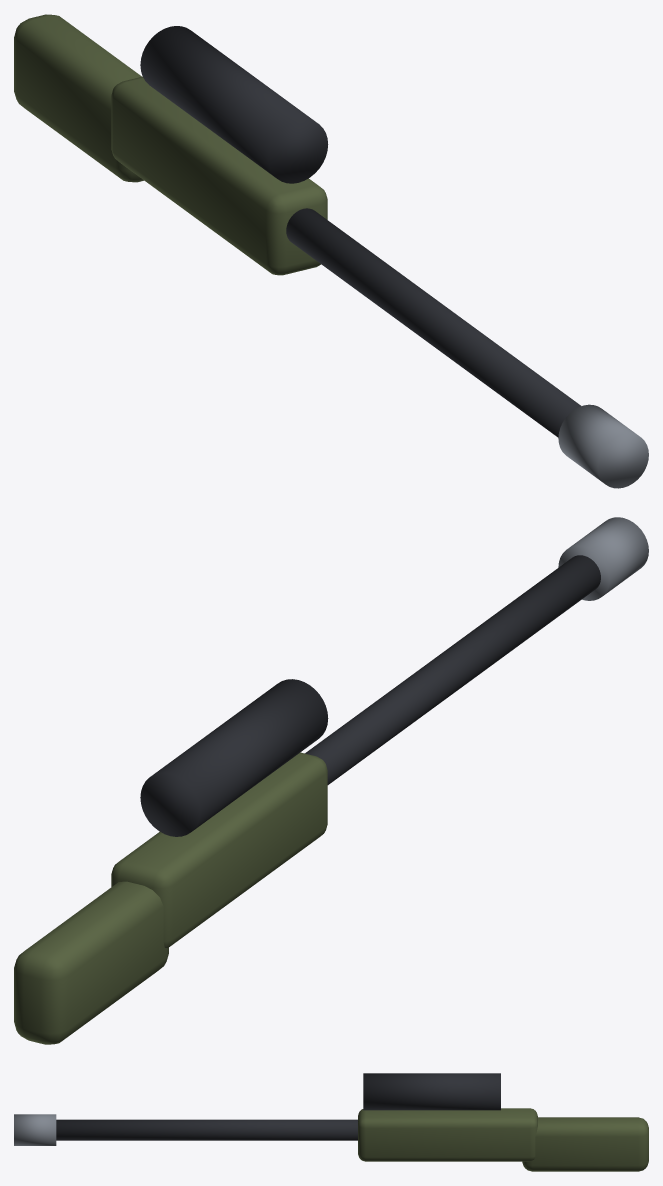
The model's file is w_sniper.glb.
The picture shows the model from 3 angles, top to bottom: view 1: azimuth 30°, elevation 25°; view 2: azimuth 150°, elevation 25°; view 3: azimuth 270°, elevation 25°; orthographic projection. The views are drawn at different scales.
Parts seen in each view (by area): view 1: weapon; view 2: weapon; view 3: weapon.
Boxes of the visible parts, left/top/right/bottom form: weapon: left=14, top=14, right=648, bottom=488; weapon: left=14, top=517, right=648, bottom=1044; weapon: left=14, top=1073, right=648, bottom=1171.
Size of the model in its own units: 0.07 by 0.195 by 1.2.
